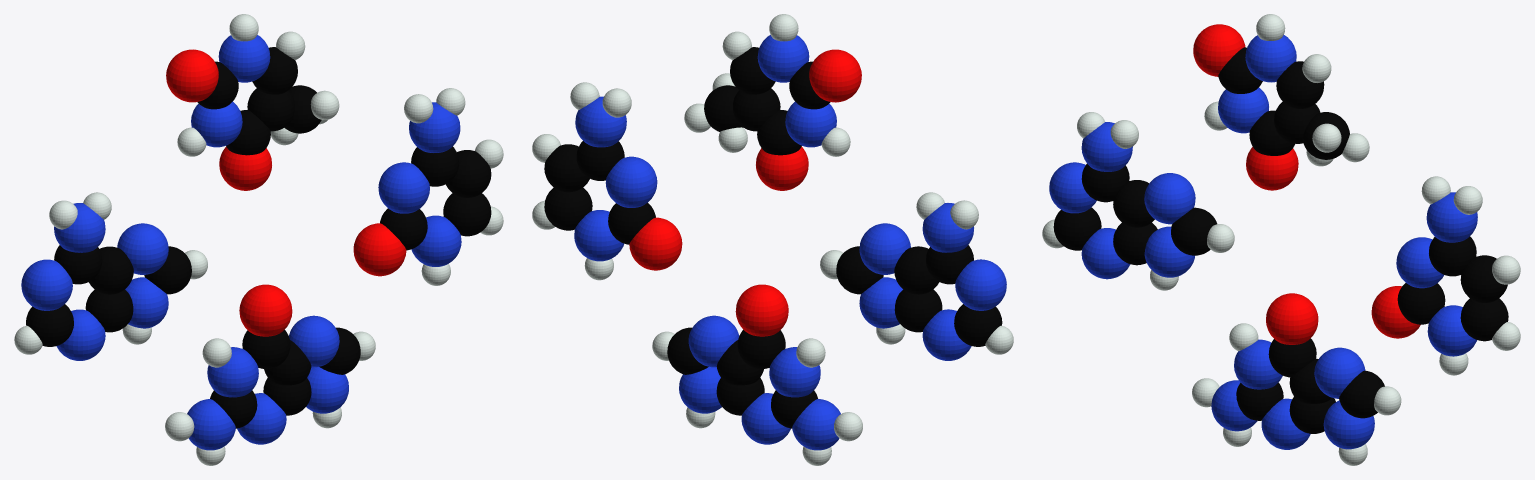
File: NBasesPortal.glb
The picture shows the model from 3 angles, left to right: view 1: azimuth 30°, elevation 25°; view 2: azimuth 150°, elevation 25°; view 3: azimuth 330°, elevation 25°; orthographic projection.
Parts seen in each view (by area): view 1: Carbono.010, Carbono.003, Carbono.002, Citosina.001; view 2: Carbono.010, Carbono.003, Carbono.002, Citosina.001; view 3: Carbono.010, Carbono.003, Carbono.002, Citosina.001.
Part boxes in pixels (x1,y1,x2,y2): Carbono.010: [165, 284, 375, 465]; Carbono.003: [14, 192, 207, 360]; Carbono.002: [166, 14, 339, 190]; Citosina.001: [353, 88, 503, 285]; Carbono.010: [652, 284, 862, 465]; Carbono.003: [820, 192, 1013, 360]; Carbono.002: [684, 14, 861, 190]; Citosina.001: [532, 82, 682, 280]; Carbono.010: [1192, 293, 1401, 465]; Carbono.003: [1042, 112, 1234, 290]; Carbono.002: [1193, 14, 1369, 190]; Citosina.001: [1371, 176, 1520, 375].
Bounding box in the file's own units: 1.28 × 1.12 × 0.1501.
